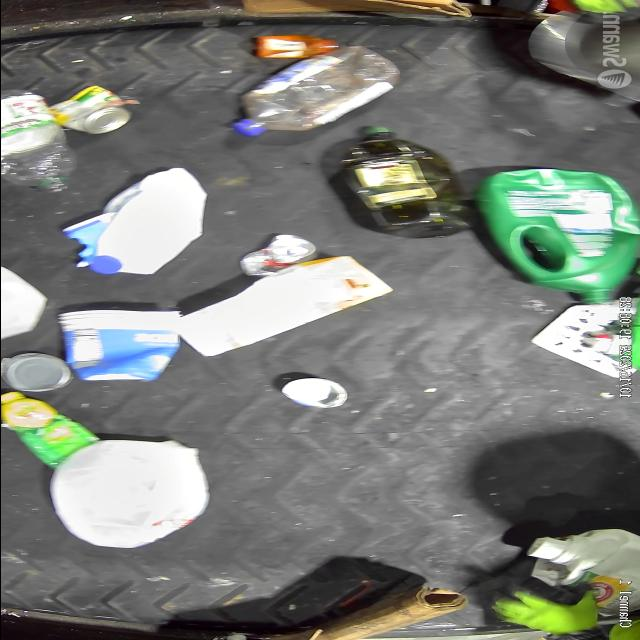can: (52, 82, 132, 134), (238, 230, 318, 276), (0, 352, 73, 391), (272, 376, 350, 409)
milk_jug: (49, 436, 213, 550), (60, 166, 208, 274), (523, 526, 640, 614)
non_white_jug: (472, 166, 640, 306), (332, 124, 474, 238)
plastic_bottle: (228, 42, 404, 136), (0, 88, 79, 194)
